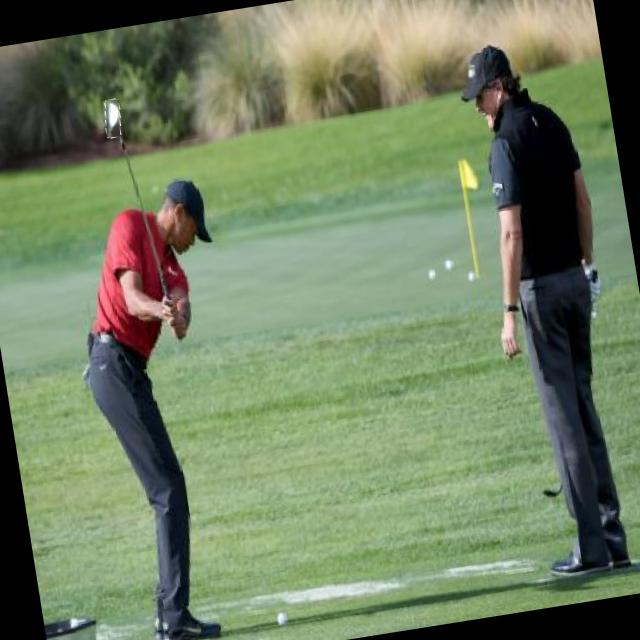club head: (102, 99, 124, 139)
